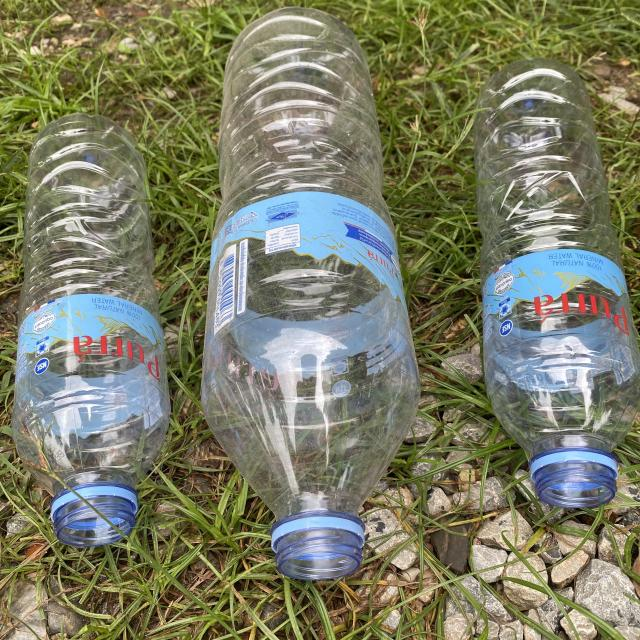plastik: (202, 8, 420, 580), (474, 59, 640, 508), (12, 114, 170, 546)
